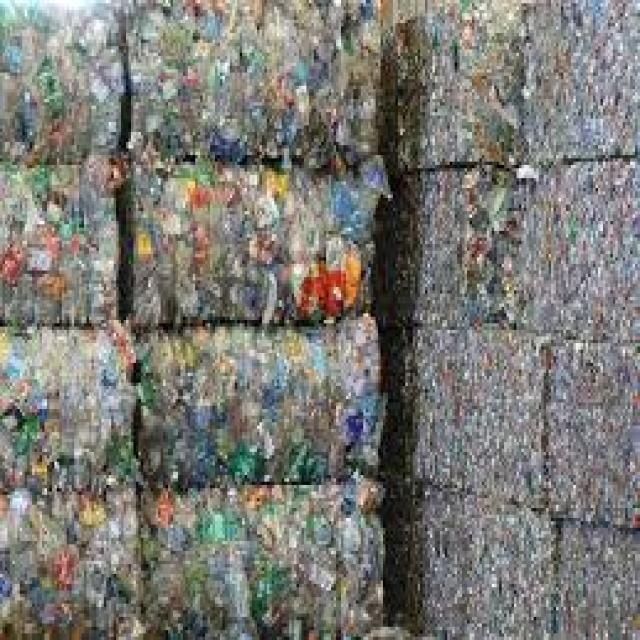heap: (154, 5, 372, 150)
